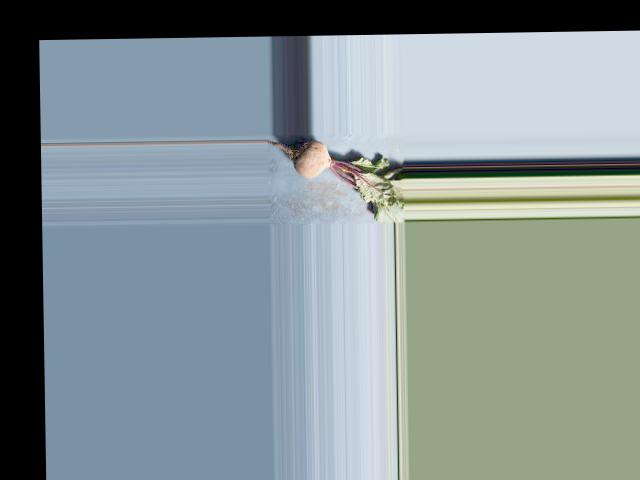beet: (267, 137, 406, 224)
